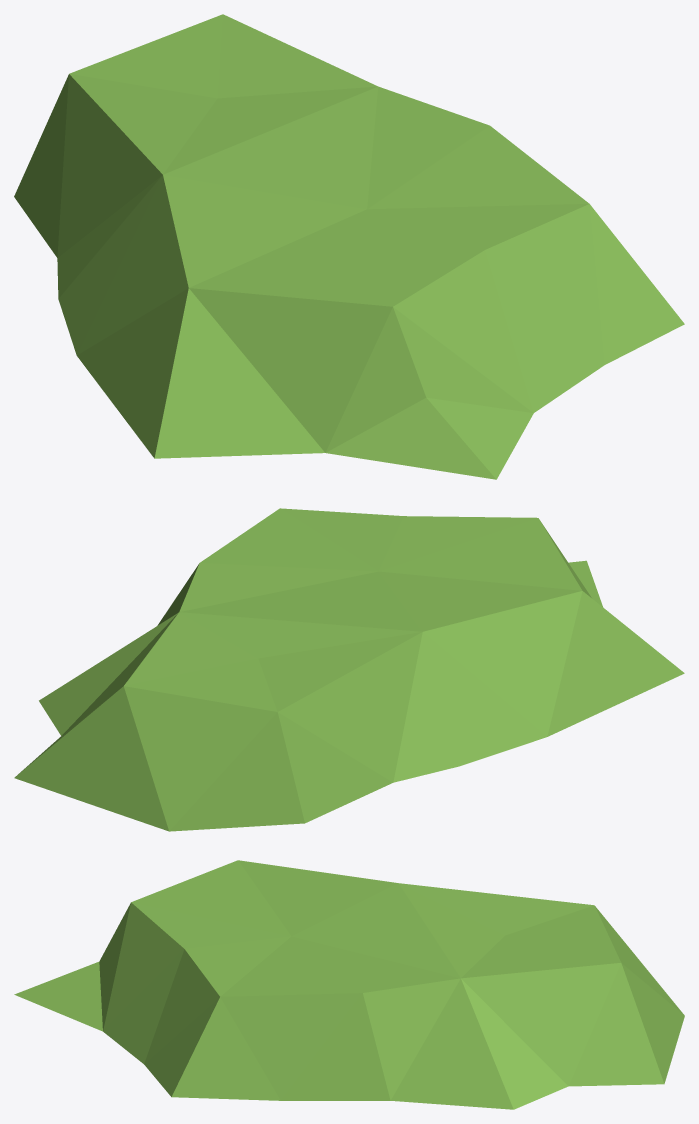
The model's file is MT_Mountain_S_b_01_LOD.fbx.
3 views of the same model, one above another, from view 1: azimuth 30°, elevation 25°; view 2: azimuth 150°, elevation 25°; view 3: azimuth 270°, elevation 25° (orthographic). The views are drawn at different scales.
Visible parts, largest first — view 1: MT_Mountain_S_b_01_LOD0; view 2: MT_Mountain_S_b_01_LOD0; view 3: MT_Mountain_S_b_01_LOD0.
Boxes of the visible parts, box(x1,y1,x2,y2) form: MT_Mountain_S_b_01_LOD0: box(14, 14, 684, 479); MT_Mountain_S_b_01_LOD0: box(14, 508, 684, 831); MT_Mountain_S_b_01_LOD0: box(14, 860, 684, 1109).
Size of what is drawn, in the model's own units: 1328 by 292 by 1914.
